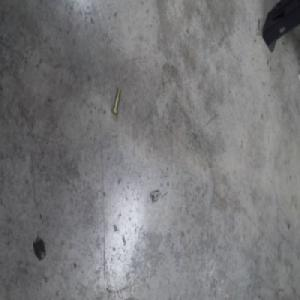Bolt: (111, 86, 121, 116)
